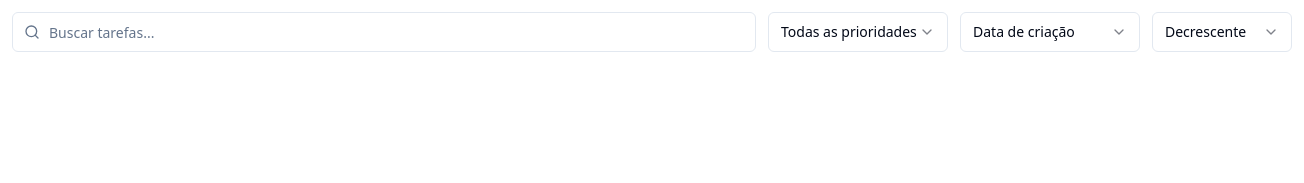
Test: TaskFilters › should display all order by options
Click the dropdown "Data de criação".
click(1050, 32)  # box [960,12,1140,52]
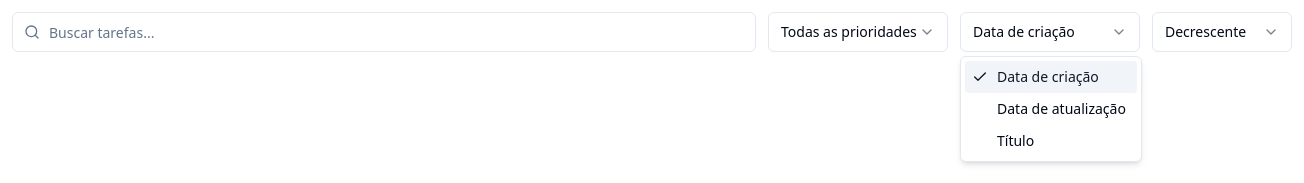
Expected: the text "Data de atualização" is shown, [997,99,1126,119]
Expected: the text "Título" is shown, [997,131,1034,151]
